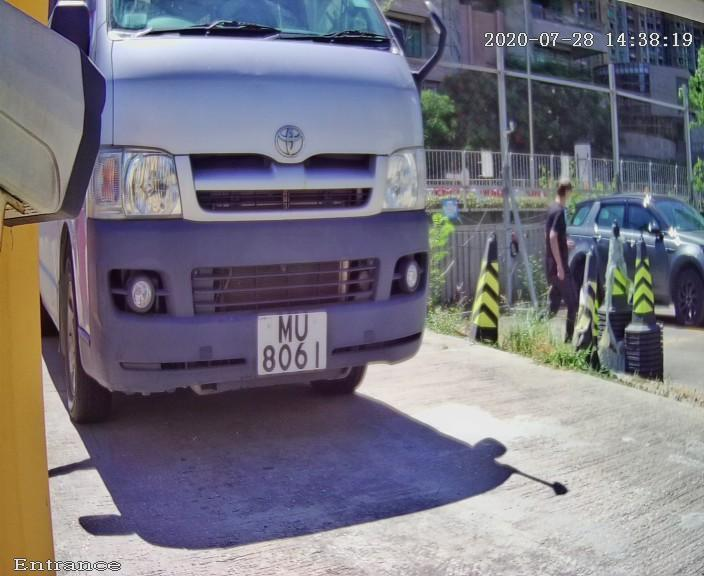privatecar: (31, 1, 465, 402)
